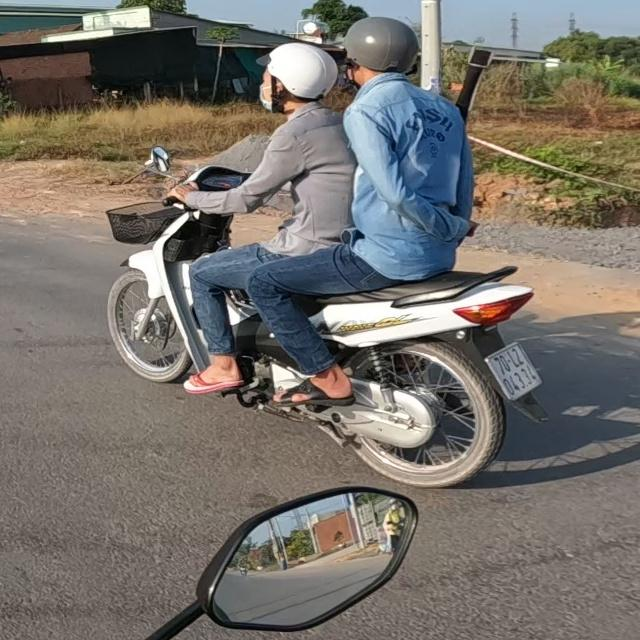license-plate: (483, 340, 546, 404)
